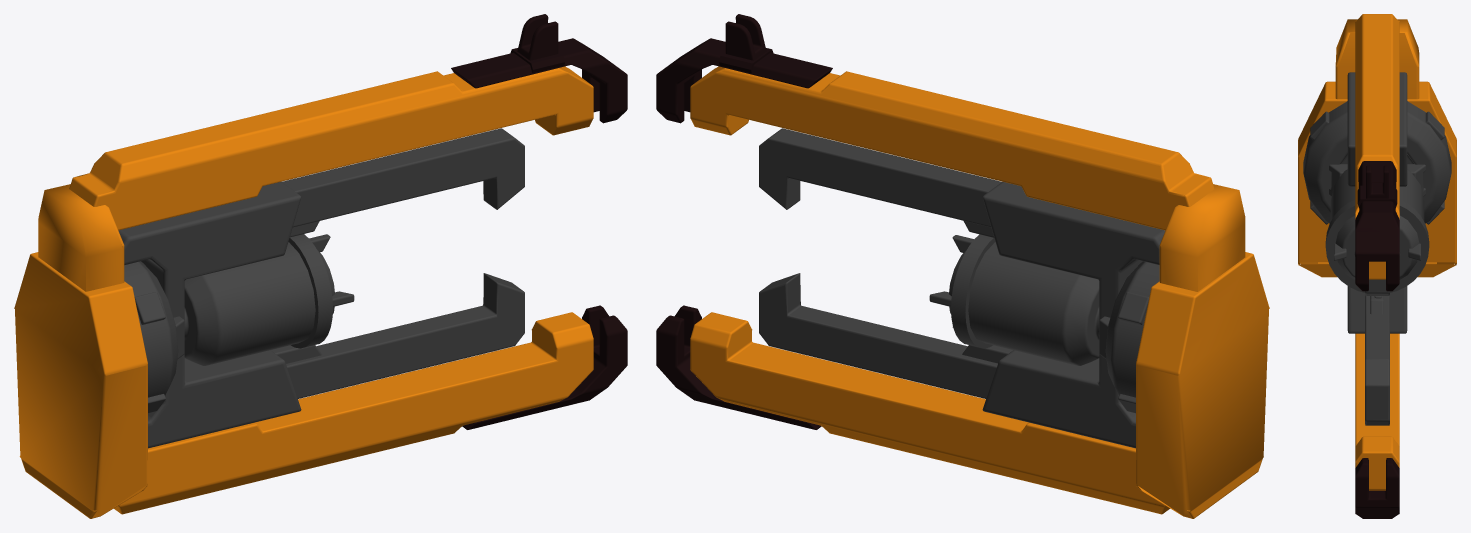
Rendered from Laser.fbx.
3 views of the same model, side by side, from view 1: azimuth 30°, elevation 25°; view 2: azimuth 150°, elevation 25°; view 3: azimuth 270°, elevation 25° (orthographic). The views are drawn at different scales.
Parts seen in each view (by area): view 1: Cube.003, AnimationRing; view 2: Cube.003, AnimationRing; view 3: Cube.003, AnimationRing.
Part boxes in pixels (<box>): Cube.003: <box>14,14,627,518</box>; AnimationRing: <box>118,128,524,448</box>; Cube.003: <box>656,14,1269,518</box>; AnimationRing: <box>759,128,1165,448</box>; Cube.003: <box>1298,14,1456,518</box>; AnimationRing: <box>1303,72,1451,425</box>.
Size of the model in its own units: 310 by 203 by 87.38.
